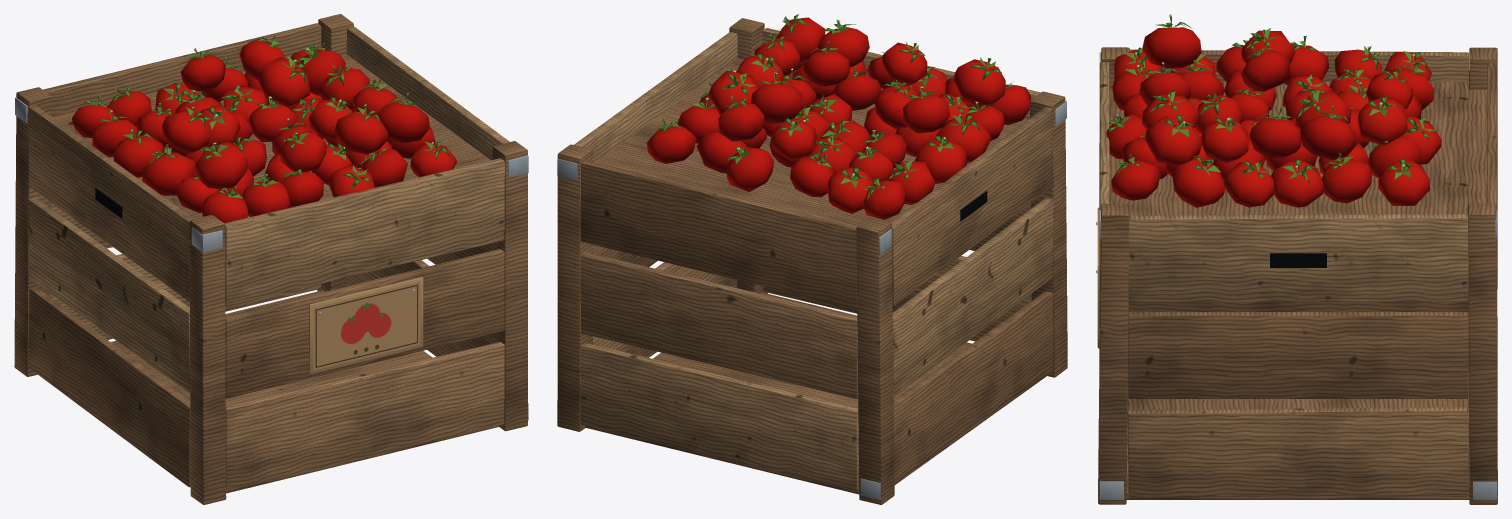
File: produce_box_tomato.glb
3 views of the same model, side by side, from view 1: azimuth 30°, elevation 25°; view 2: azimuth 150°, elevation 25°; view 3: azimuth 270°, elevation 25° (orthographic). The views are drawn at different scales.
Parts seen in each view (by area): view 1: ProduceBoxTomatoBody, Tomato36, Tomato43, Tomato41, Tomato2, Tomato45, Tomato37, Tomato39, Tomato3, Tomato6, Tomato21, Tomato40 (+21 smaller); view 2: ProduceBoxTomatoBody, Tomato36, Tomato43, Tomato23, Tomato11, Tomato3, Tomato37, Tomato35, Tomato44, Tomato39, Tomato40, Tomato2 (+22 smaller); view 3: ProduceBoxTomatoBody, Tomato45, Tomato36, Tomato31, Tomato48, Tomato33, Tomato44, Tomato35, Tomato34, Tomato47, Tomato32, Tomato46 (+27 smaller).
Boxes of the visible parts, x1,y1,x2,y2 form: ProduceBoxTomatoBody: (14, 14, 528, 504); Tomato36: (194, 140, 248, 189); Tomato43: (258, 56, 310, 106); Tomato41: (335, 104, 388, 154); Tomato2: (142, 144, 195, 195); Tomato45: (376, 92, 429, 142); Tomato37: (162, 106, 210, 153); Tomato39: (280, 130, 326, 172); Tomato3: (113, 128, 164, 177); Tomato6: (241, 173, 290, 216); Tomato21: (248, 96, 296, 141); Tomato40: (180, 48, 225, 91); ProduceBoxTomatoBody: (557, 18, 1067, 504); Tomato36: (953, 57, 1005, 106); Tomato43: (750, 72, 802, 123); Tomato23: (726, 145, 774, 191); Tomato11: (827, 167, 873, 213); Tomato3: (914, 136, 967, 183); Tomato37: (902, 86, 949, 133); Tomato35: (646, 118, 696, 163); Tomato44: (718, 95, 764, 141); Tomato39: (882, 42, 927, 85); Tomato40: (771, 117, 816, 160); Tomato2: (936, 113, 991, 162); ProduceBoxTomatoBody: (1096, 47, 1497, 504); Tomato45: (1145, 114, 1202, 165); Tomato36: (1142, 14, 1201, 68); Tomato31: (1172, 156, 1225, 207); Tomato48: (1300, 105, 1356, 159); Tomato33: (1271, 158, 1323, 207); Tomato44: (1357, 96, 1407, 144); Tomato35: (1378, 158, 1429, 205); Tomato34: (1321, 153, 1371, 203); Tomato47: (1249, 107, 1301, 157); Tomato32: (1223, 161, 1274, 207); Tomato46: (1200, 116, 1248, 162).
Size of the model in its own units: 0.9821 by 0.9409 by 0.9863.
11 materials, 6 textured.
